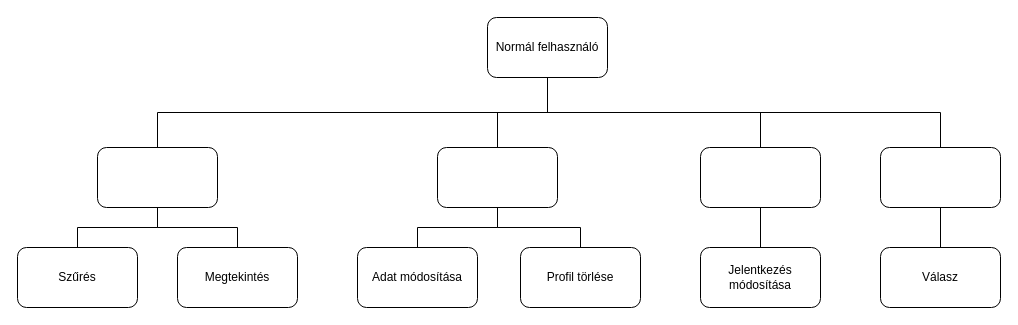
This 1018x325 diagram has some shape labels left out. Each missing label, with the centre of its shape:
Beérkező megkeresések megnézése: [940,177]
Jelentkezett munkák megnézése: [760,177]
Munka keresése: [157,177]
Profil módosítása: [497,177]
